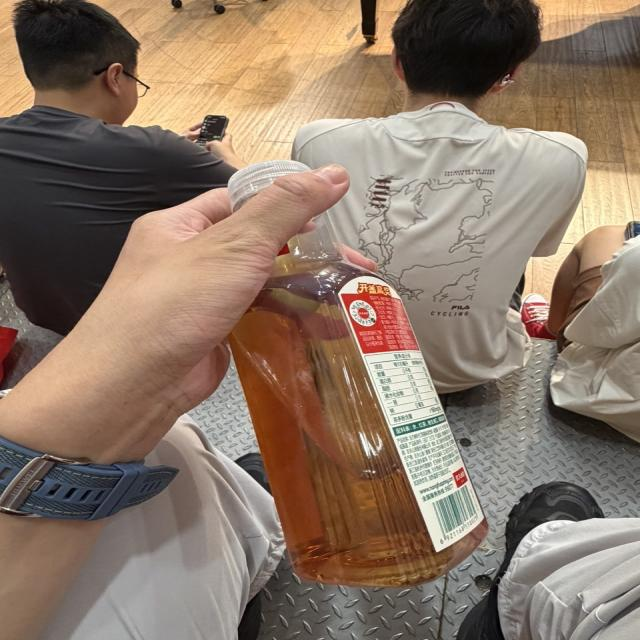medium: (229, 214, 487, 586)
